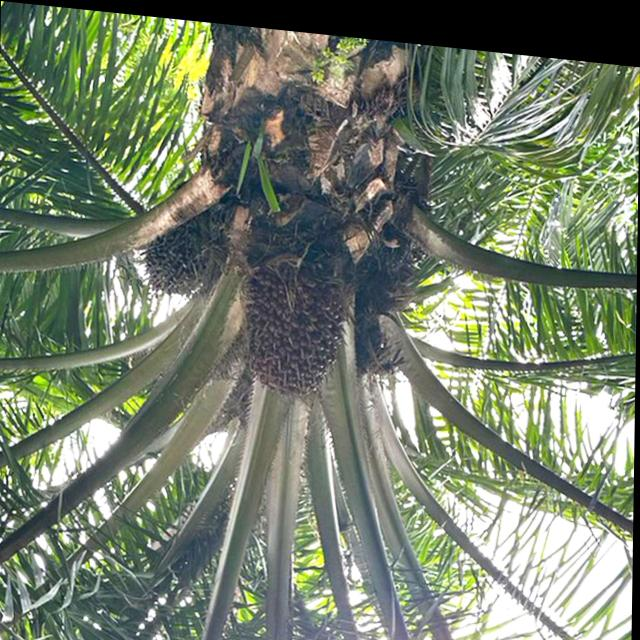ripe: (233, 247, 348, 411)
